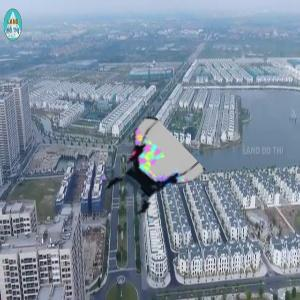drone: (104, 130, 194, 220)
